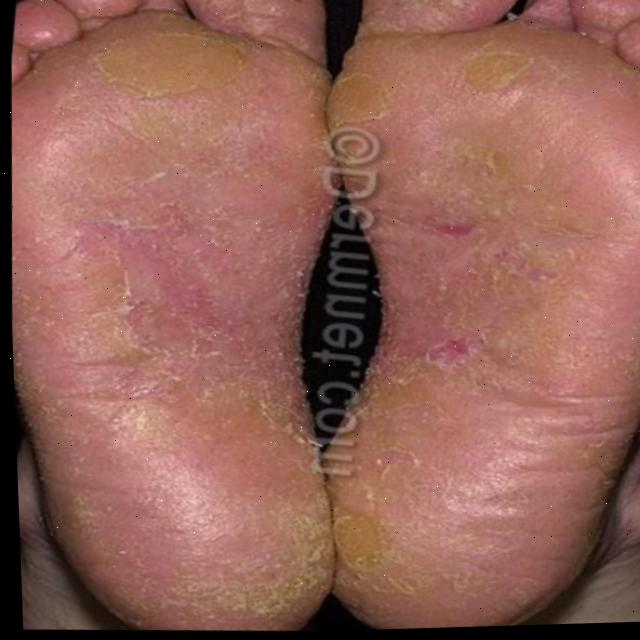Eczema: (35, 16, 357, 559), (344, 46, 598, 588)
